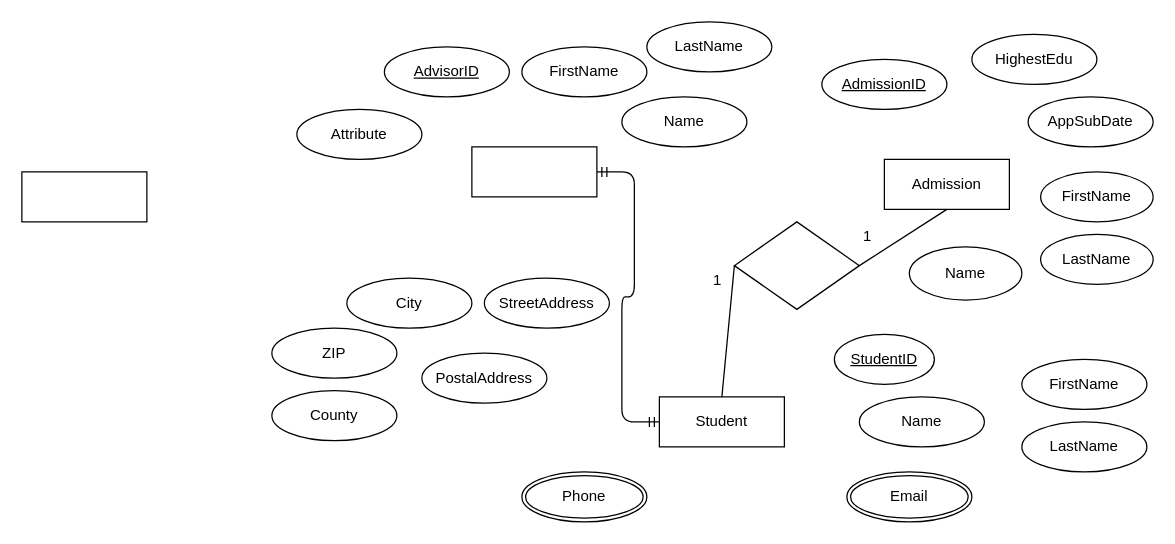
Image size: 1175x544. Some labels were removed from this diagram. Here are the shapes that lost their labels. From the top down, the centre of each, then its label:
At point (534, 171): "Advisor".
At point (84, 196): "Entity".
At point (796, 265): "Application completion?".
